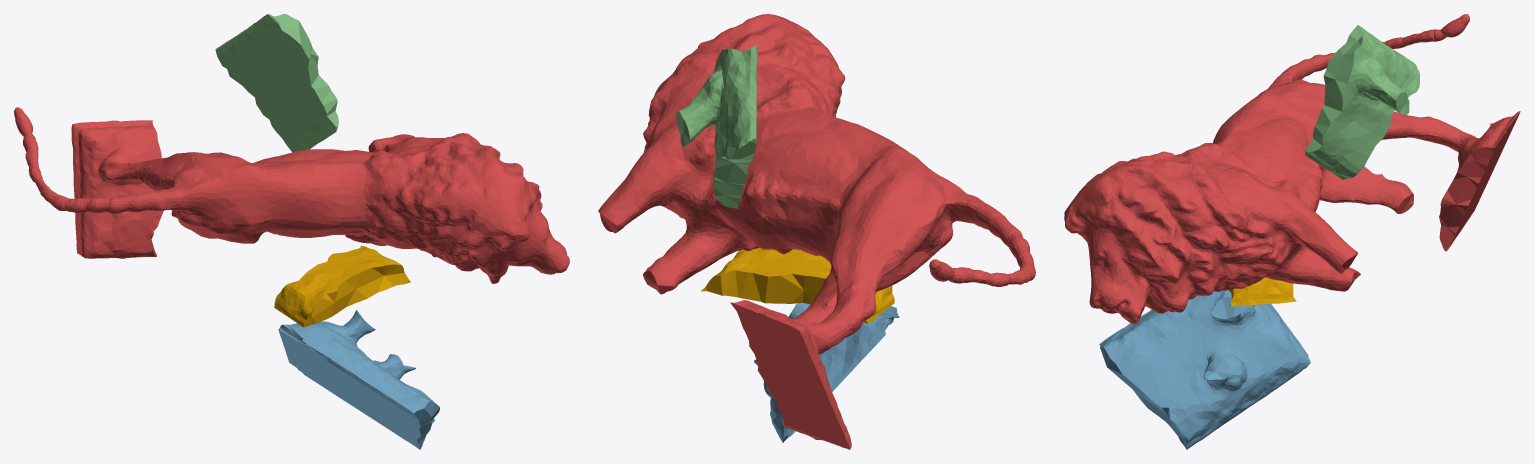
File: fractured_13_4pcs_transformed.glb
3 views of the same model, side by side, from view 1: azimuth 30°, elevation 25°; view 2: azimuth 150°, elevation 25°; view 3: azimuth 270°, elevation 25° (orthographic). The views are drawn at different scales.
Visible parts, largest first — view 1: piece_1.obj, piece_3.obj, piece_2.obj, piece_0.obj; view 2: piece_1.obj, piece_3.obj, piece_0.obj, piece_2.obj; view 3: piece_1.obj, piece_2.obj, piece_3.obj, piece_0.obj.
Boxes of the visible parts, x1=… form: piece_1.obj: x1=14, y1=107, x2=569, y2=283; piece_3.obj: x1=215, y1=14, x2=338, y2=152; piece_2.obj: x1=278, y1=310, x2=439, y2=449; piece_0.obj: x1=274, y1=245, x2=410, y2=327; piece_1.obj: x1=598, y1=14, x2=1035, y2=449; piece_3.obj: x1=676, y1=44, x2=757, y2=208; piece_0.obj: x1=701, y1=247, x2=894, y2=324; piece_2.obj: x1=754, y1=303, x2=899, y2=442; piece_1.obj: x1=1064, y1=14, x2=1520, y2=324; piece_2.obj: x1=1099, y1=290, x2=1310, y2=449; piece_3.obj: x1=1305, y1=25, x2=1419, y2=179; piece_0.obj: x1=1228, y1=277, x2=1296, y2=306.
Bounding box in the file's own units: 0.8842 × 0.8161 × 0.8614.
